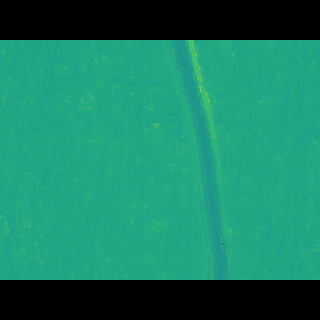Loch: (166, 69, 234, 250)
